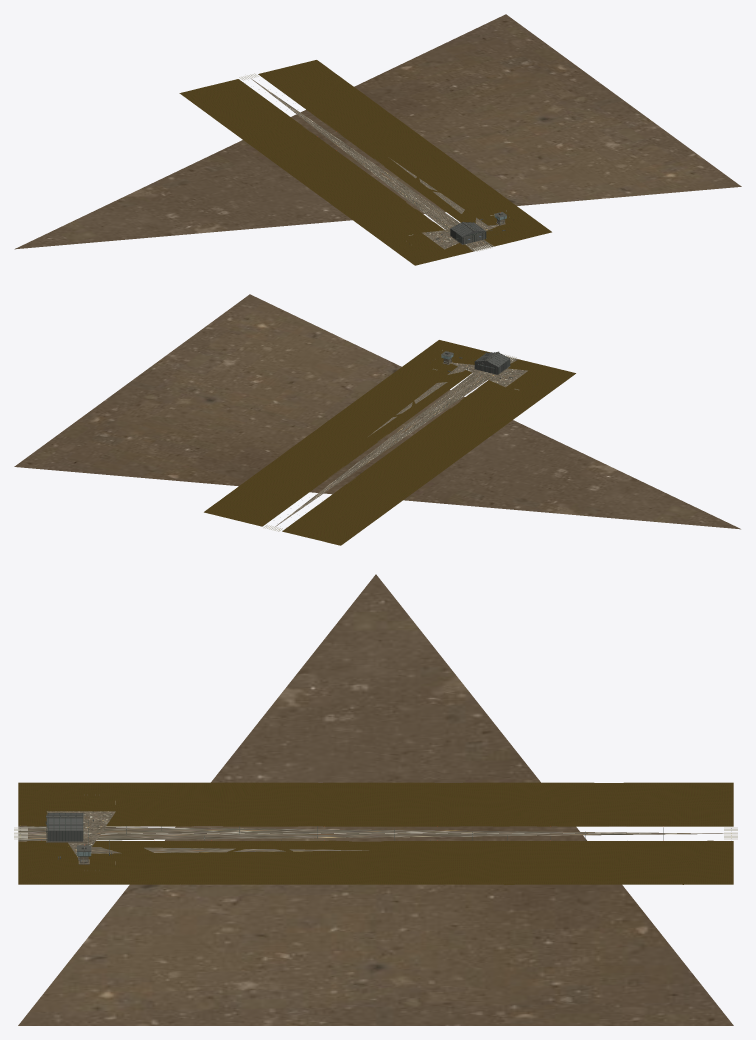
File: Bloedjungle_Airfield_HQ_2_1_LOD2.glb
3 views of the same model, one above another, from view 1: azimuth 30°, elevation 25°; view 2: azimuth 150°, elevation 25°; view 3: azimuth 270°, elevation 25° (orthographic). The views are drawn at different scales.
Parts seen in each view (by area): view 1: Runway and Apron, Grass Ver ges and Terrain, Hangar HQ; view 2: Runway and Apron, Grass Ver ges and Terrain, Hangar HQ; view 3: Runway and Apron, Grass Ver ges and Terrain, Hangar HQ.
Boxes of the visible parts, x1=… form: Runway and Apron: x1=14, y1=14, x2=741, y2=251; Grass Ver ges and Terrain: x1=179, y1=60, x2=551, y2=265; Hangar HQ: x1=450, y1=222, x2=492, y2=244; Runway and Apron: x1=14, y1=294, x2=740, y2=531; Grass Ver ges and Terrain: x1=204, y1=340, x2=575, y2=545; Hangar HQ: x1=474, y1=351, x2=516, y2=374; Runway and Apron: x1=14, y1=574, x2=737, y2=1025; Grass Ver ges and Terrain: x1=18, y1=782, x2=733, y2=884; Hangar HQ: x1=45, y1=812, x2=84, y2=842.
Bounding box in the file's own units: 1135 × 24.2 × 773.
Materials: 17 (7 with a texture image).
